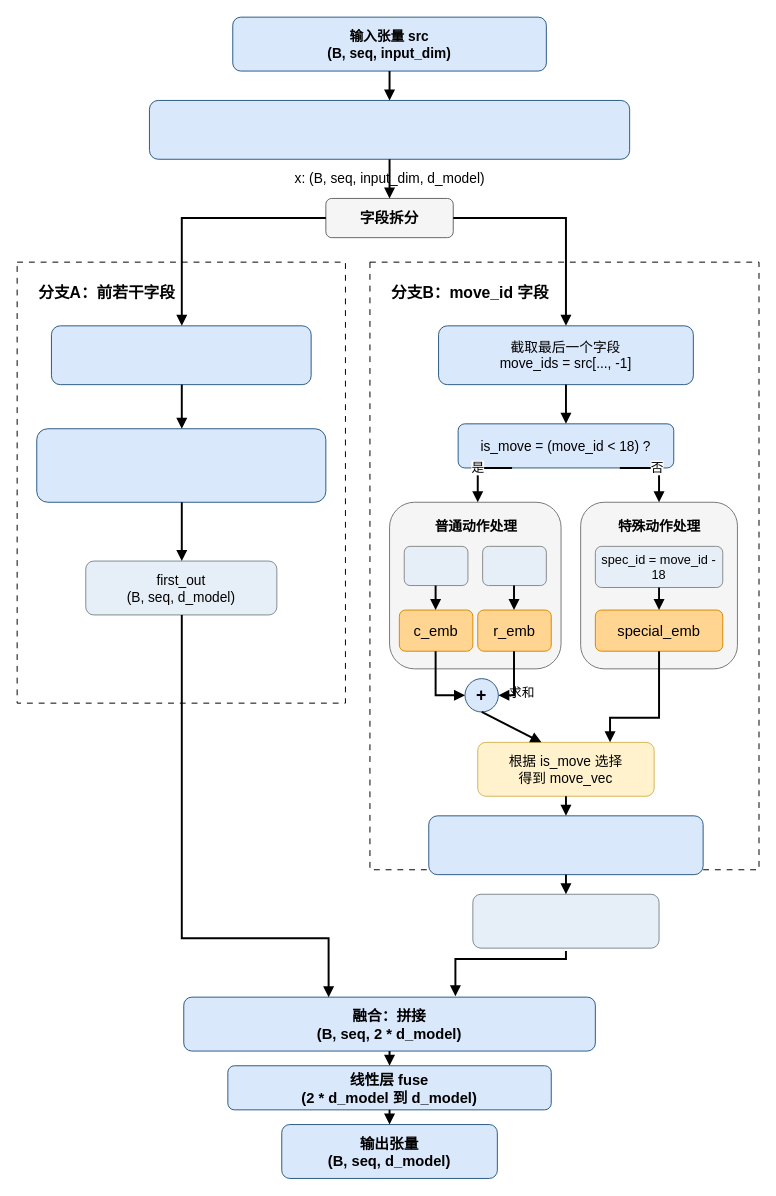
Some shapes in this 776 by 1196 pixel diagram are drawn without their labels. The shapes that lost their labels are listed below. From the top down, each one's centre as x and y in pixels, then its label:
At point (389, 129): "nn.Embedding (vocab_size, d_model, padding_idx=PAD_TOKEN)".
At point (180, 355): "截取前 input_dim - 1 个字段 并展开".
At point (181, 465): "MLP project_first Linear(d_model * (input_dim - 1) 到 d_model) + Mish".
At point (435, 565): "c_id".
At point (514, 565): "r_id".
At point (565, 845): "MLP project_last Linear(d_model 到 d_model) + Mish".
At point (565, 920): "last_out (B, seq, d_model)".
